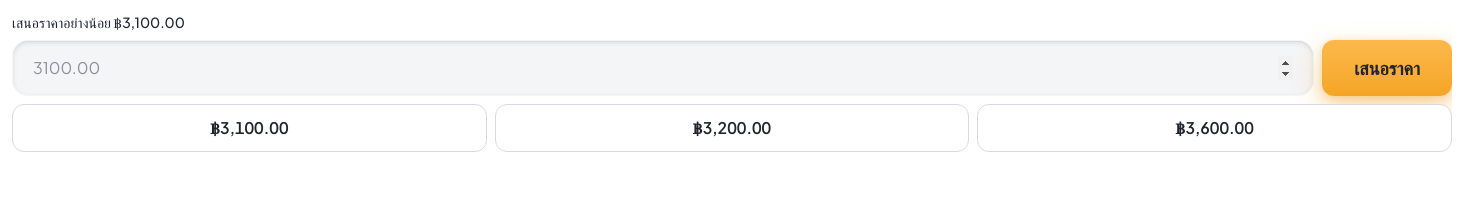
Test: PlaceBidControl › placing a bid › shows the API's own refusal rather than a generic one
The width and height of the screenshot is (1464, 198).
Type "3100" into the number field labelled "เสนอราคาอย่างน้อย ฿3,100.00" at (663, 68), box top-left (33, 56), bottom-right (1293, 80)
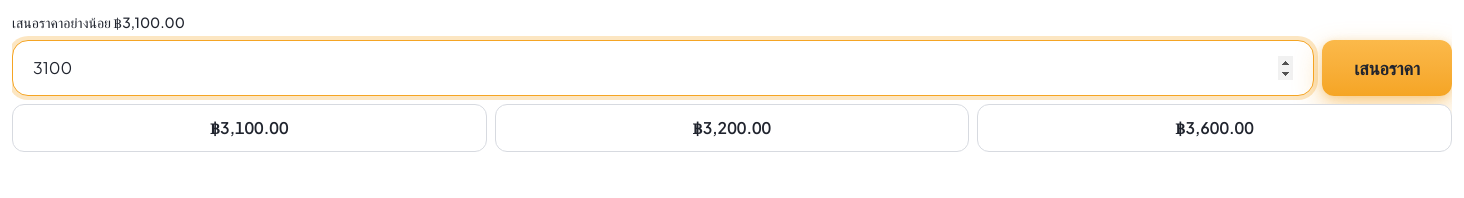
Click the button "เสนอราคา" at (1387, 68), box top-left (1322, 40), bottom-right (1452, 96)
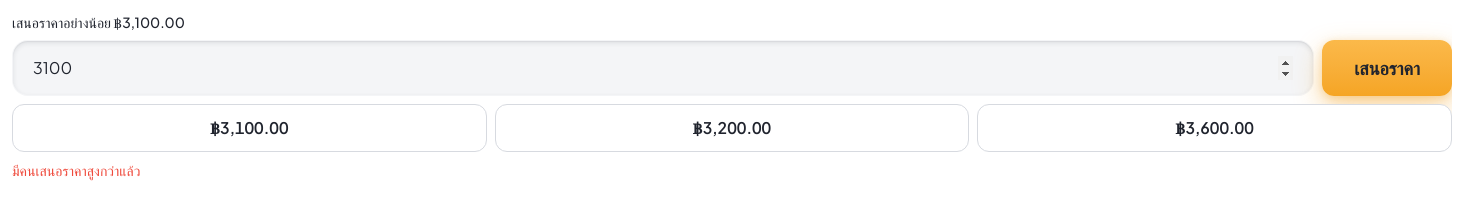
Expected: the message reads "มีคนเสนอราคาสูงกว่าแล้ว", top-left (12, 161), bottom-right (140, 179)
